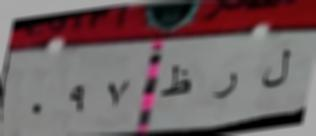0: (24, 93, 49, 120)
7: (104, 70, 136, 109)
9: (62, 78, 95, 114)
Thaa: (157, 56, 199, 100)
laam: (255, 43, 294, 94)
raa: (211, 64, 242, 103)
